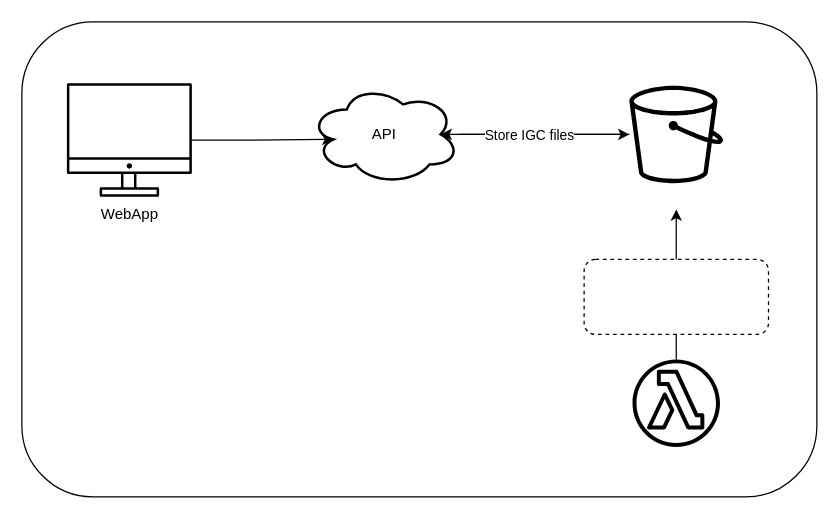
Image size: 839x519. Some labels were removed from this diagram. The centre of each missing label's shape, as x and y in pixels:
AWS S3 (un-versioned): point (675, 133)
Delete the oldest files when the number of objects goes over the limit: point (675, 296)
